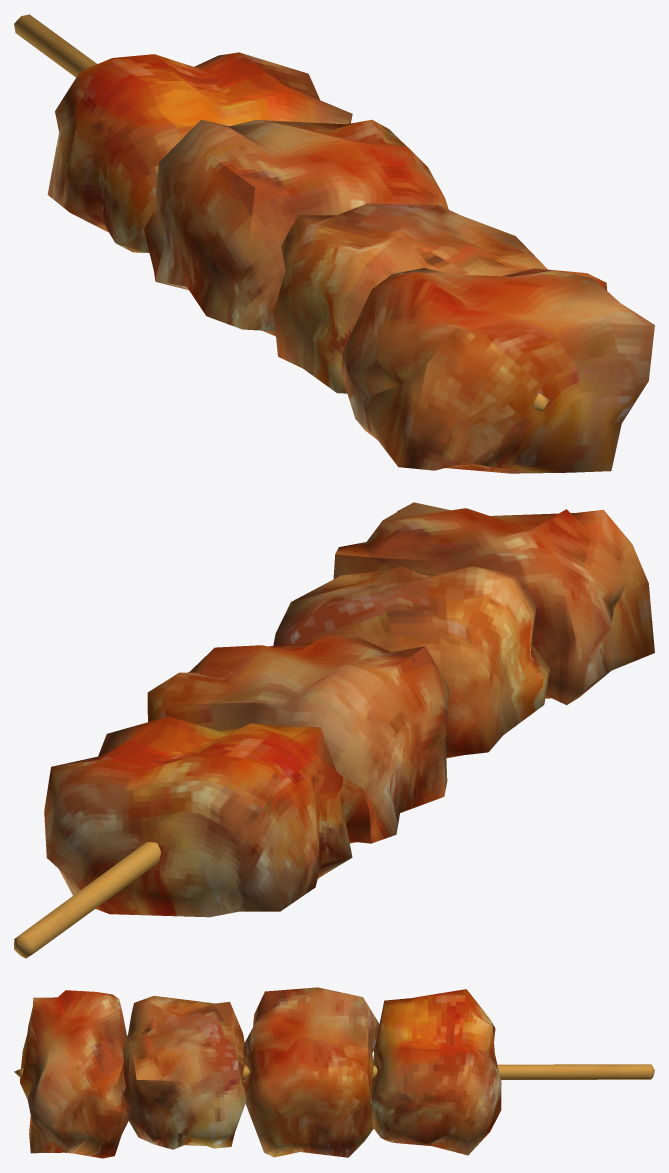
File: ref_bbqskewers2.glb
3 views of the same model, one above another, from view 1: azimuth 30°, elevation 25°; view 2: azimuth 150°, elevation 25°; view 3: azimuth 270°, elevation 25° (orthographic). The views are drawn at different scales.
Parts seen in each view (by area): view 1: ref_bbqskewers2; view 2: ref_bbqskewers2; view 3: ref_bbqskewers2.
Boxes of the visible parts, x1,y1,x2,y2 form: ref_bbqskewers2: (14, 14, 654, 473); ref_bbqskewers2: (14, 502, 654, 958); ref_bbqskewers2: (14, 987, 654, 1158).
Bounding box in the file's own units: 0.2949 × 0.2217 × 1.
1 material, 1 textured.
